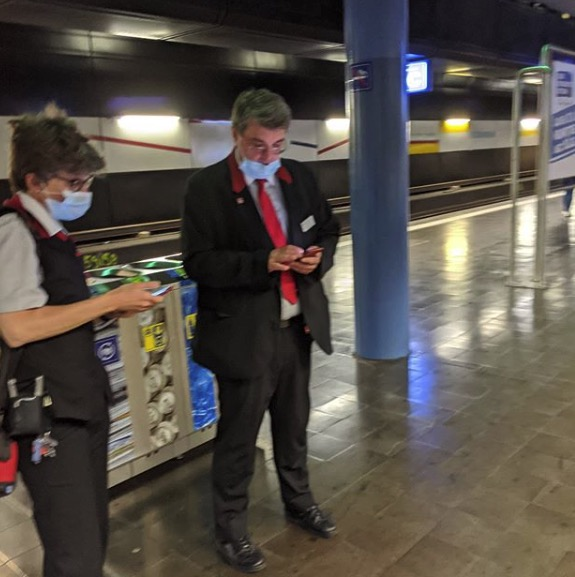mask_weared_incorrect: (240, 124, 289, 183)
with_mask: (46, 171, 94, 225)
